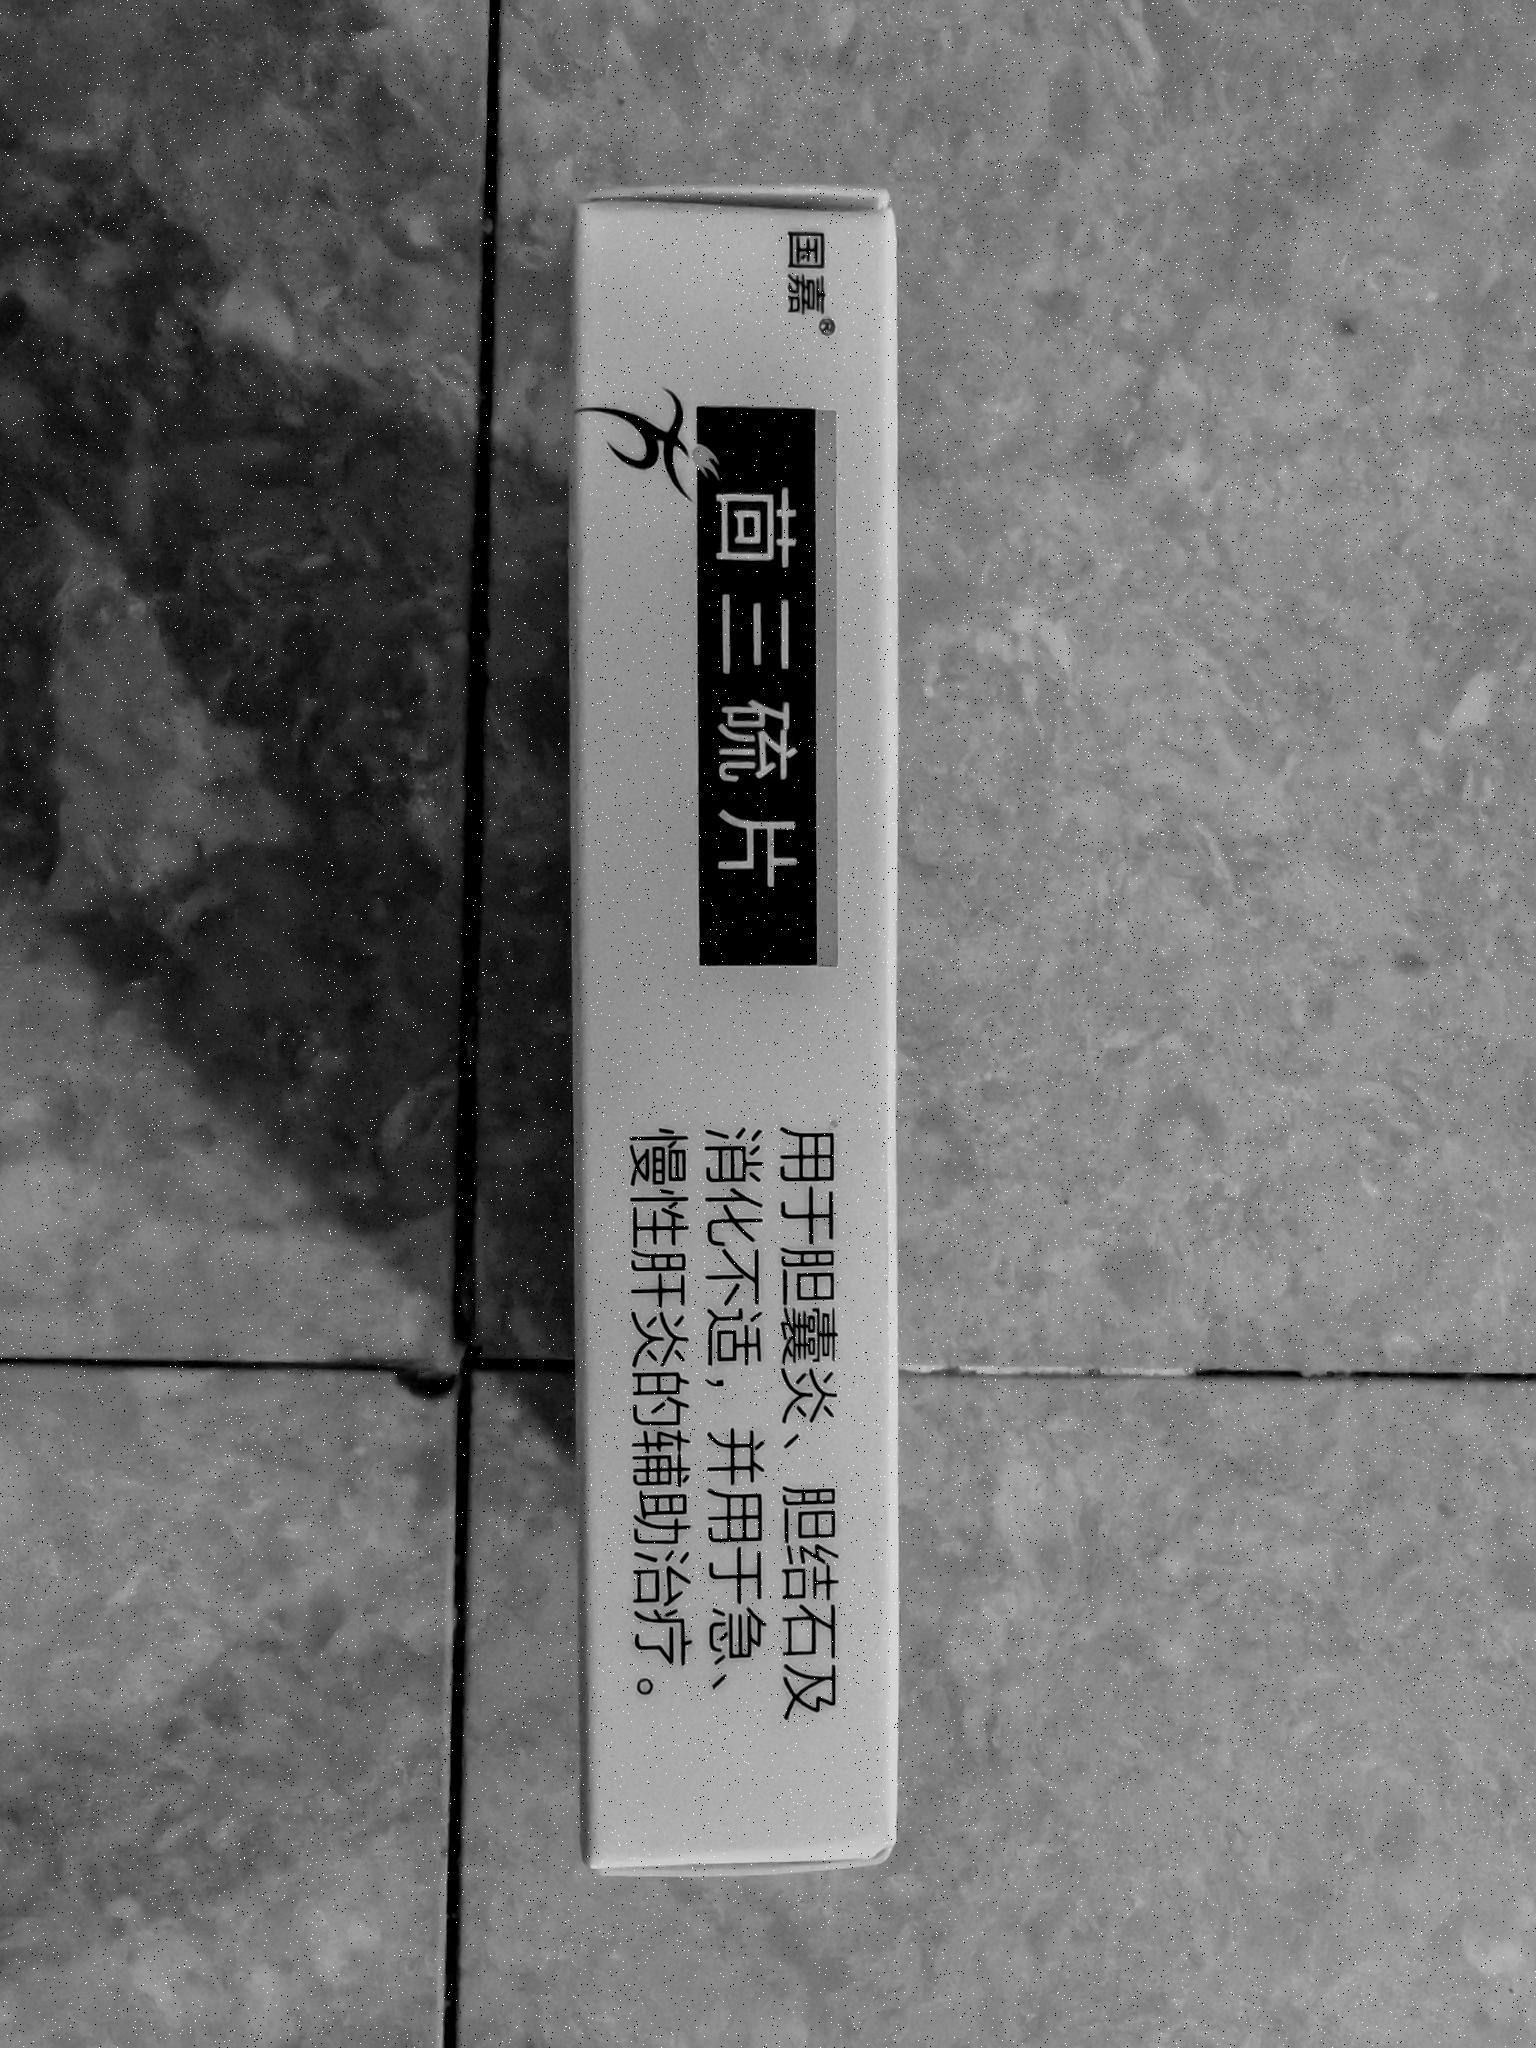Medicine4: (534, 164, 949, 1908)
